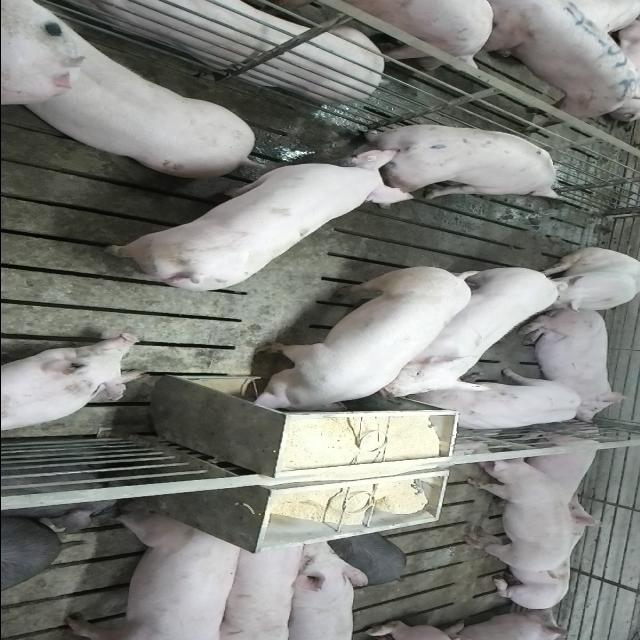Feeding: (247, 269, 475, 422)
Sitting: (526, 248, 640, 314)
Standing: (91, 153, 407, 297), (7, 6, 265, 182), (373, 262, 563, 398), (59, 509, 249, 638), (471, 0, 640, 125), (358, 122, 568, 204), (462, 451, 568, 576), (210, 535, 308, 637), (281, 536, 367, 640), (427, 373, 579, 429)
Sternal_lying: (20, 0, 398, 100), (0, 335, 142, 437), (484, 496, 610, 608), (512, 309, 628, 422), (520, 427, 606, 502)
